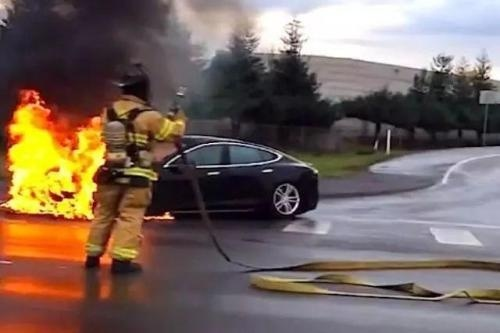fire: (2, 88, 108, 218)
